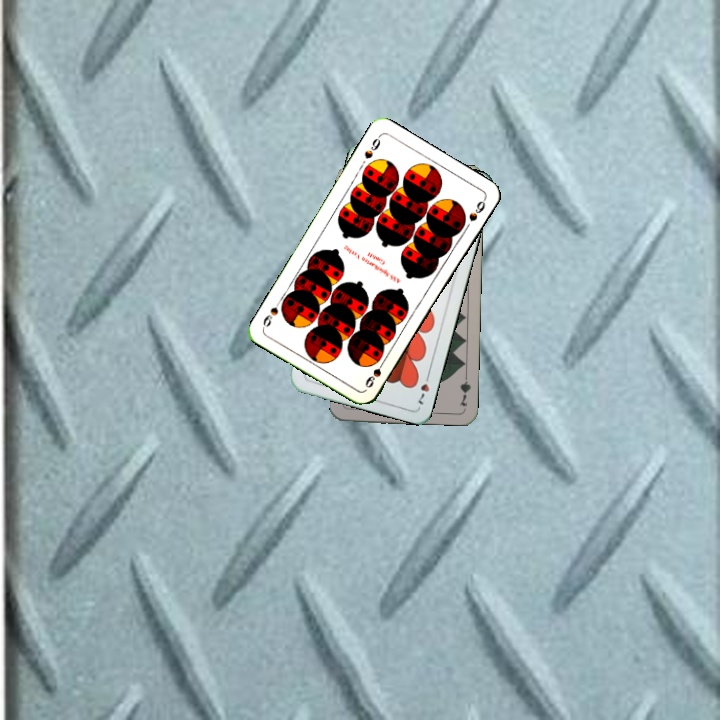G7: (456, 369, 473, 408)
H7: (414, 368, 433, 407)
S9: (361, 355, 388, 391), (360, 131, 383, 161)
